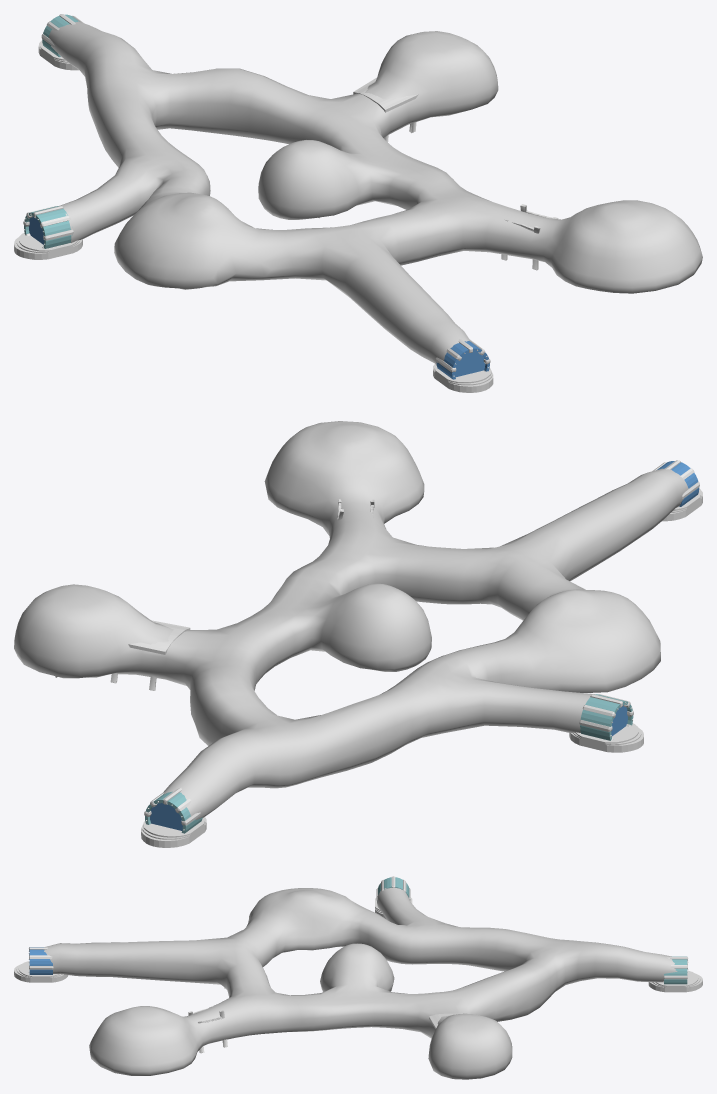
The model's file is Mining Chunk.fbx.
The picture shows the model from 3 angles, top to bottom: view 1: azimuth 30°, elevation 25°; view 2: azimuth 150°, elevation 25°; view 3: azimuth 270°, elevation 25°; orthographic projection. The views are drawn at different scales.
Visible parts, largest first — view 1: Tunnel S1, Gate Low Poly.020, Gate Low Poly.017, Roof.002, Cube Low Poly.010; view 2: Tunnel S1, Gate Low Poly.020, Cube Low Poly.010, Gate Low Poly.019; view 3: Tunnel S1, Gate Low Poly.017, Gate Low Poly.016.
Part boxes in pixels (box(x1,y1,x2,y2)): Tunnel S1: box(48, 21, 702, 364); Gate Low Poly.020: box(24, 206, 72, 248); Gate Low Poly.017: box(436, 341, 489, 379); Roof.002: box(353, 77, 418, 112); Cube Low Poly.010: box(23, 206, 73, 248); Tunnel S1: box(14, 421, 688, 819); Gate Low Poly.020: box(580, 694, 633, 740); Cube Low Poly.010: box(579, 694, 633, 740); Gate Low Poly.019: box(150, 803, 182, 830); Tunnel S1: box(44, 888, 677, 1079); Gate Low Poly.017: box(29, 947, 52, 974); Gate Low Poly.016: box(664, 956, 687, 984).
Size of what is drawn, in the model's own units: 16963 by 2361 by 26075.
